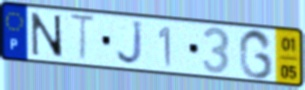1: (157, 25, 172, 68)
3: (201, 26, 234, 76)
G: (237, 28, 274, 81)
J: (115, 19, 145, 67)
N: (29, 11, 66, 60)
T: (68, 12, 99, 65)
